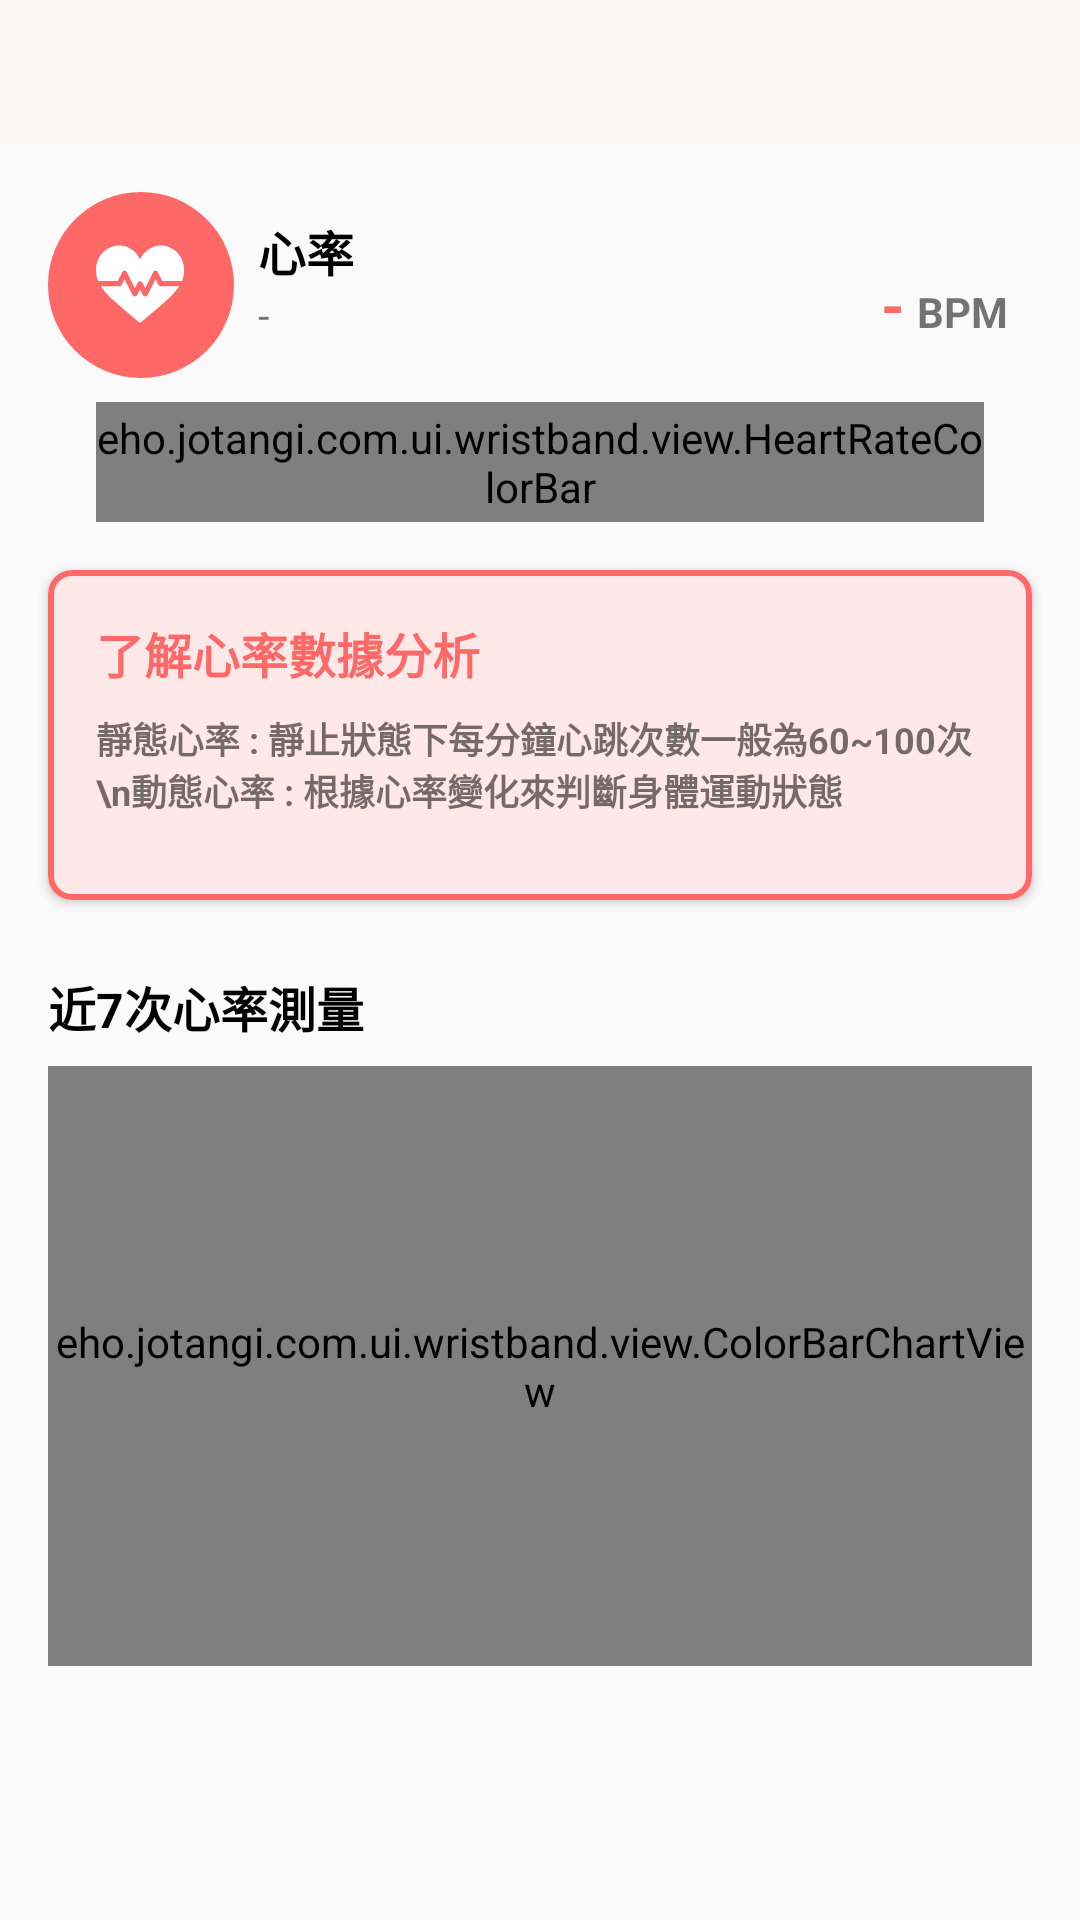

Where icons sit on this 1080w x 1920h app screen, as (x1, y1, x2, y2):
heartbeat: (96, 245, 184, 323)
